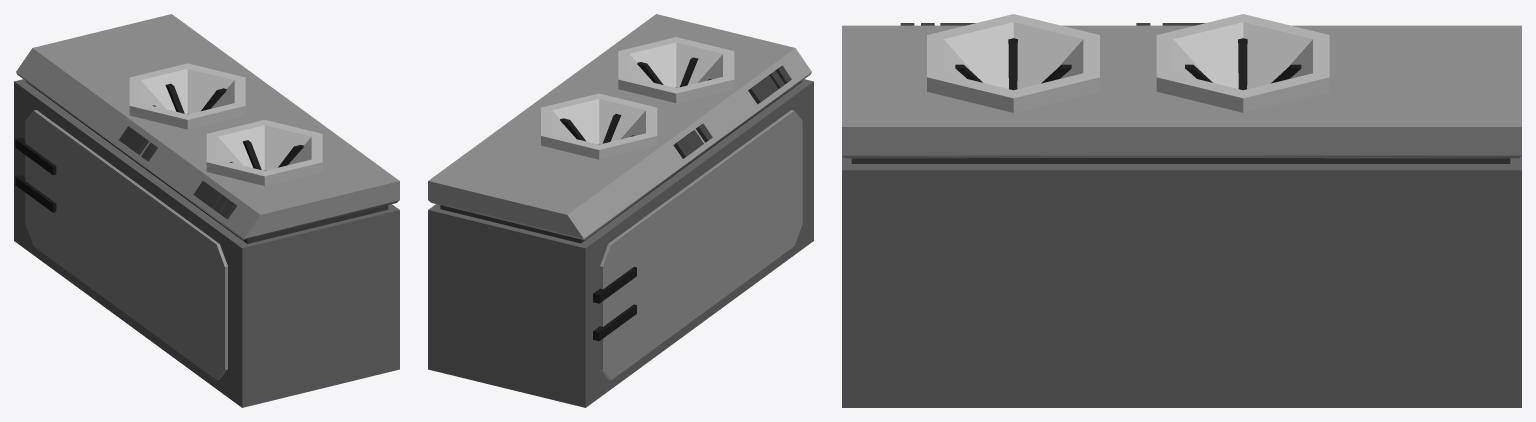
The model's file is burners_A.FBX.
3 renders of one model, left to right at view 1: azimuth 30°, elevation 25°; view 2: azimuth 150°, elevation 25°; view 3: azimuth 270°, elevation 25°, orthographic. The views are drawn at different scales.
Visible parts, largest first — view 1: burners_A; view 2: burners_A; view 3: burners_A.
Boxes of the visible parts, x1=… form: burners_A: x1=14, y1=14, x2=399, y2=407; burners_A: x1=428, y1=14, x2=813, y2=407; burners_A: x1=842, y1=14, x2=1521, y2=407.
Bounding box in the file's own units: 58.08 × 67.15 × 140.
